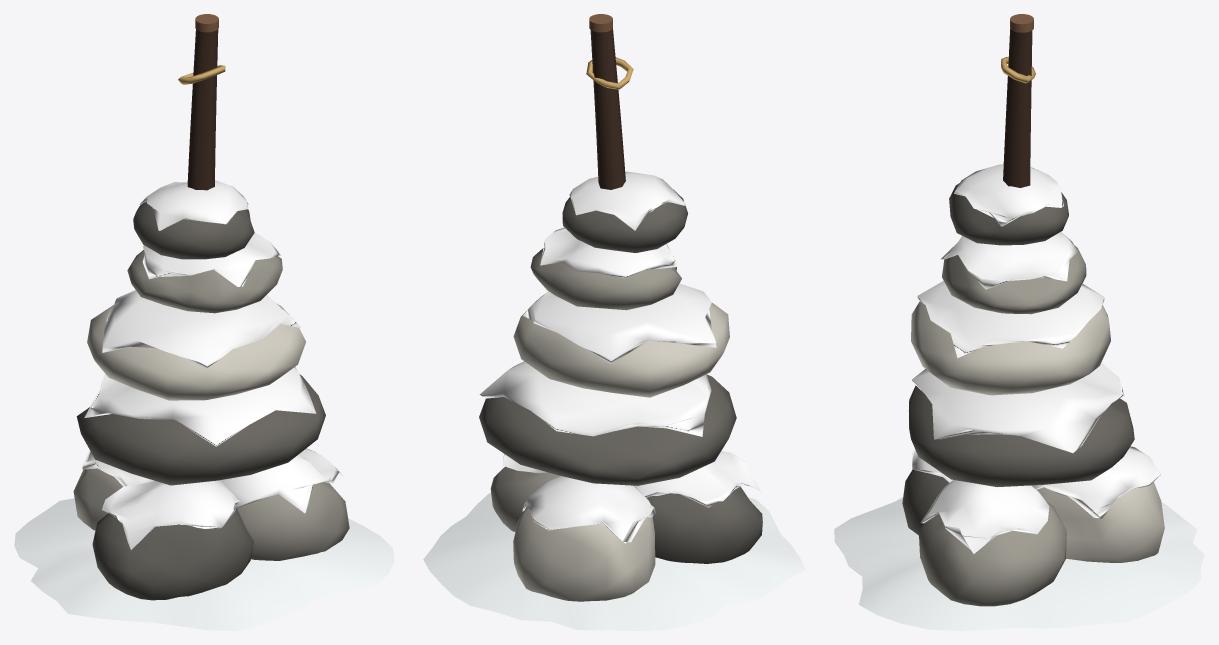
Rendered from detail_snow_cairn.glb.
3 renders of one model, left to right at view 1: azimuth 30°, elevation 25°; view 2: azimuth 150°, elevation 25°; view 3: azimuth 270°, elevation 25°, orthographic. The views are drawn at different scales.
Parts seen in each view (by area): view 1: plaster, stone, wood; view 2: plaster, stone, wood, cloth; view 3: plaster, stone, wood.
Boxes of the visible parts, x1,y1,x2,y2 form: plaster: (14,180,394,630); stone: (73,202,349,600); wood: (187,14,218,190); plaster: (423,171,805,630); stone: (479,189,762,601); wood: (589,14,625,189); cloth: (586,57,633,89); plaster: (834,164,1204,630); stone: (902,183,1164,606); wood: (1003,14,1033,187).
Bounding box in the file's own units: 0.8 × 1.3 × 0.8.
